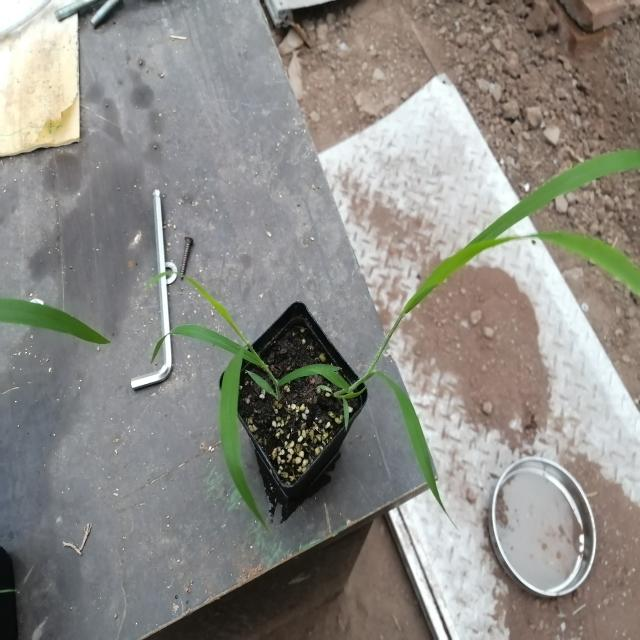crabgrass: (352, 141, 640, 509), (146, 270, 310, 514)
